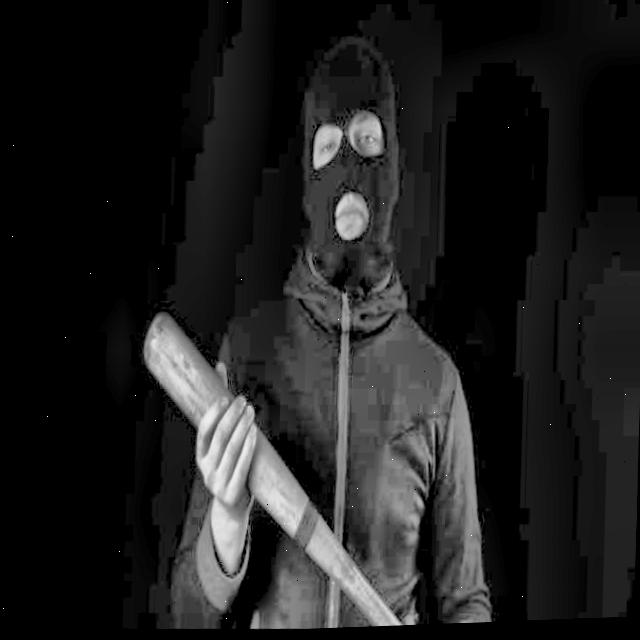tongkat pemukul: (133, 299, 418, 626)
